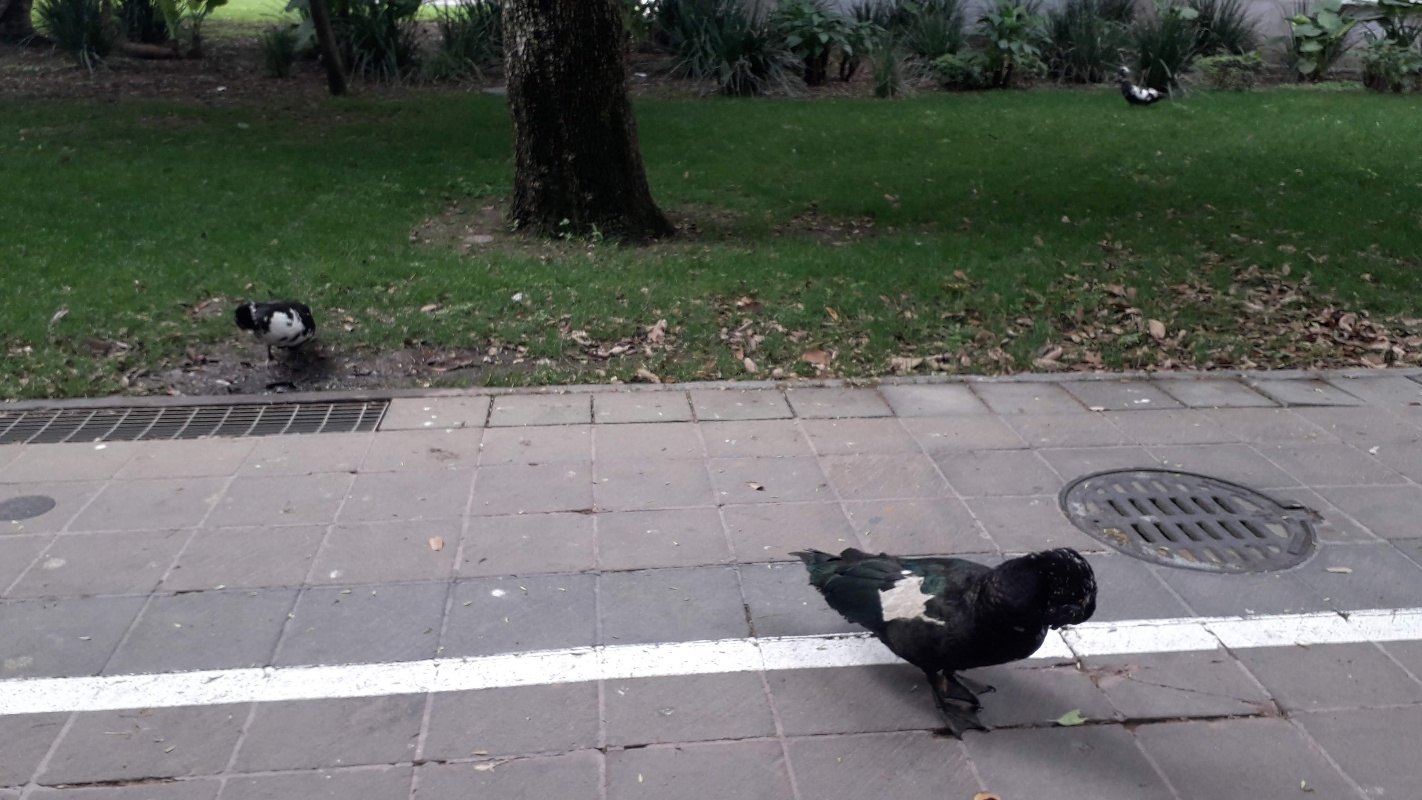pato: (793, 549, 1101, 712), (230, 294, 320, 380)
